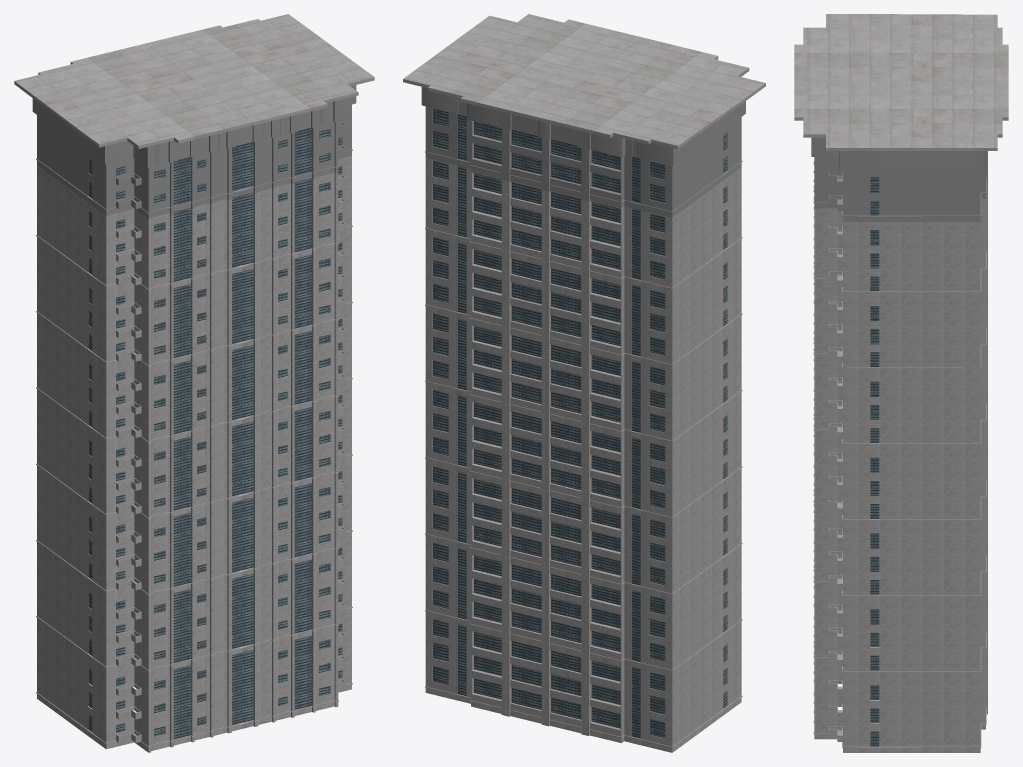
The model's file is builder_1.FBX.
3 views of the same model, side by side, from view 1: azimuth 30°, elevation 25°; view 2: azimuth 150°, elevation 25°; view 3: azimuth 270°, elevation 25° (orthographic).
Parts seen in each view (by area): view 1: builder_1, top; view 2: builder_1, top; view 3: builder_1, top.
Part boxes in pixels (left/top/right/bottom): builder_1: left=32, top=85, right=356, bottom=752; top: left=14, top=14, right=374, bottom=148; builder_1: left=421, top=87, right=745, bottom=752; top: left=403, top=14, right=765, bottom=149; builder_1: left=811, top=137, right=987, bottom=752; top: left=794, top=14, right=1008, bottom=150.
Size of the model in its own units: 16460 by 35095 by 11133.
